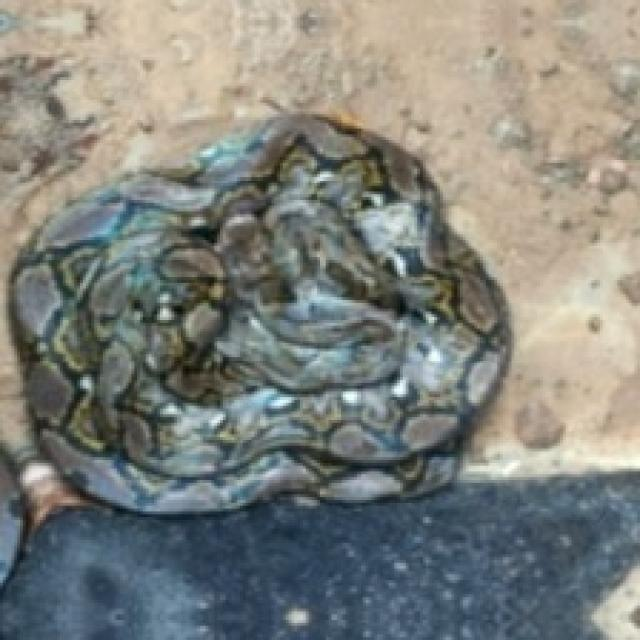reticulated python: (9, 114, 509, 511)
